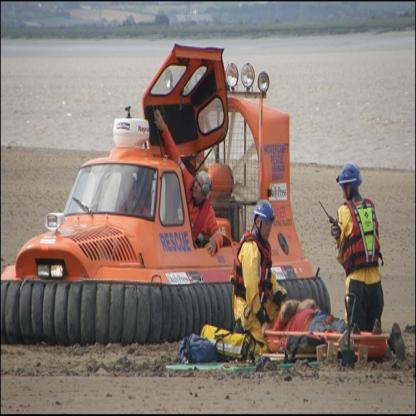face: (125, 179, 138, 209), (260, 216, 274, 241), (193, 175, 205, 198), (343, 184, 352, 204)
